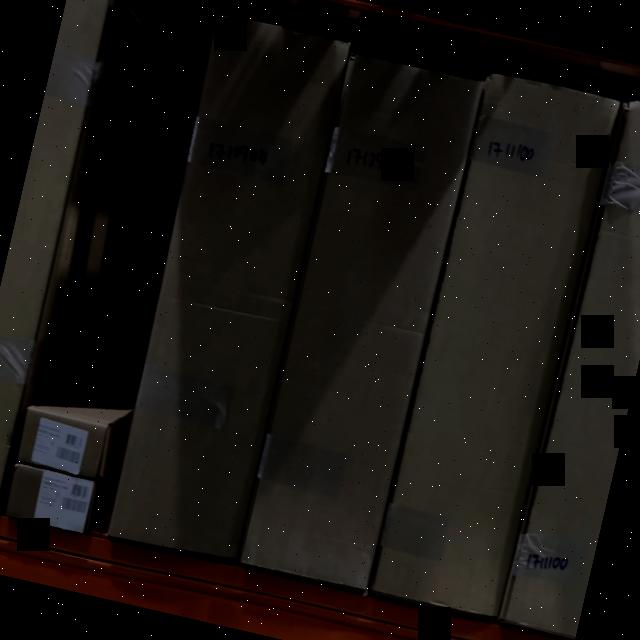box: (371, 72, 619, 624), (236, 55, 484, 588), (108, 17, 351, 557), (18, 406, 108, 478), (5, 464, 94, 530)
